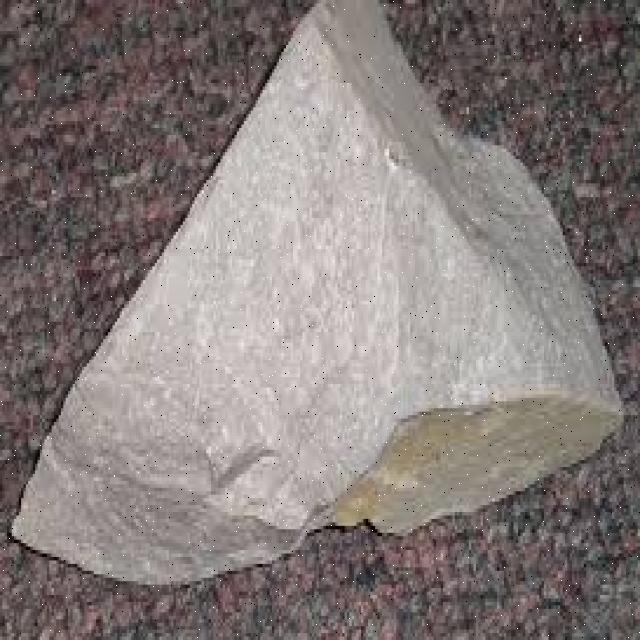Metamorphic: (2, 3, 624, 574)
